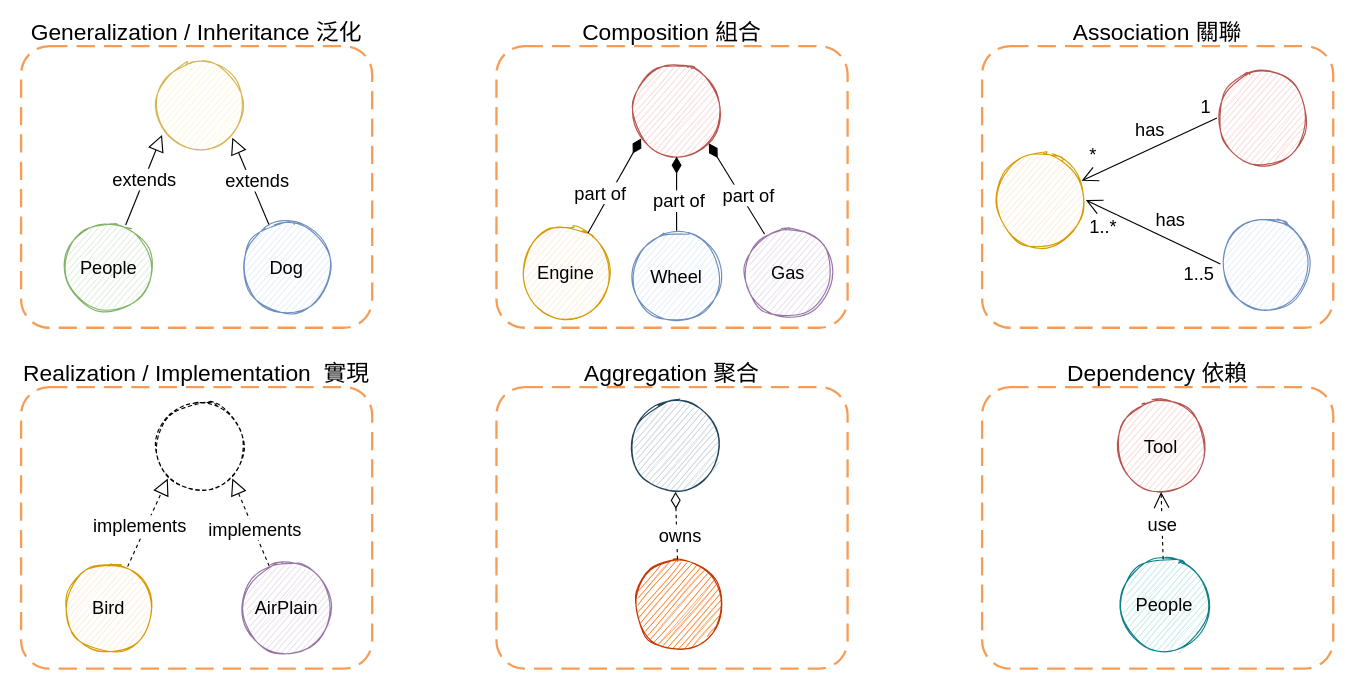
Some shapes in this 1353 by 689 pixel diagram are drawn without their labels. Each missing label, with the centre of its shape:
"Animal" belongs at point (199, 105).
"Car" belongs at point (676, 110).
"Club" belongs at point (1265, 263).
"Company" belongs at point (675, 446).
"Employee" belongs at point (678, 604).
"IFly" belongs at point (199, 446).
"School" belongs at point (1262, 117).
"Student" belongs at point (1040, 199).
